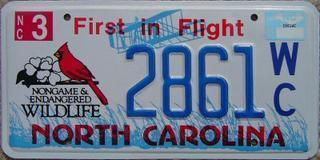placa de veiculo: (3, 1, 317, 160)
